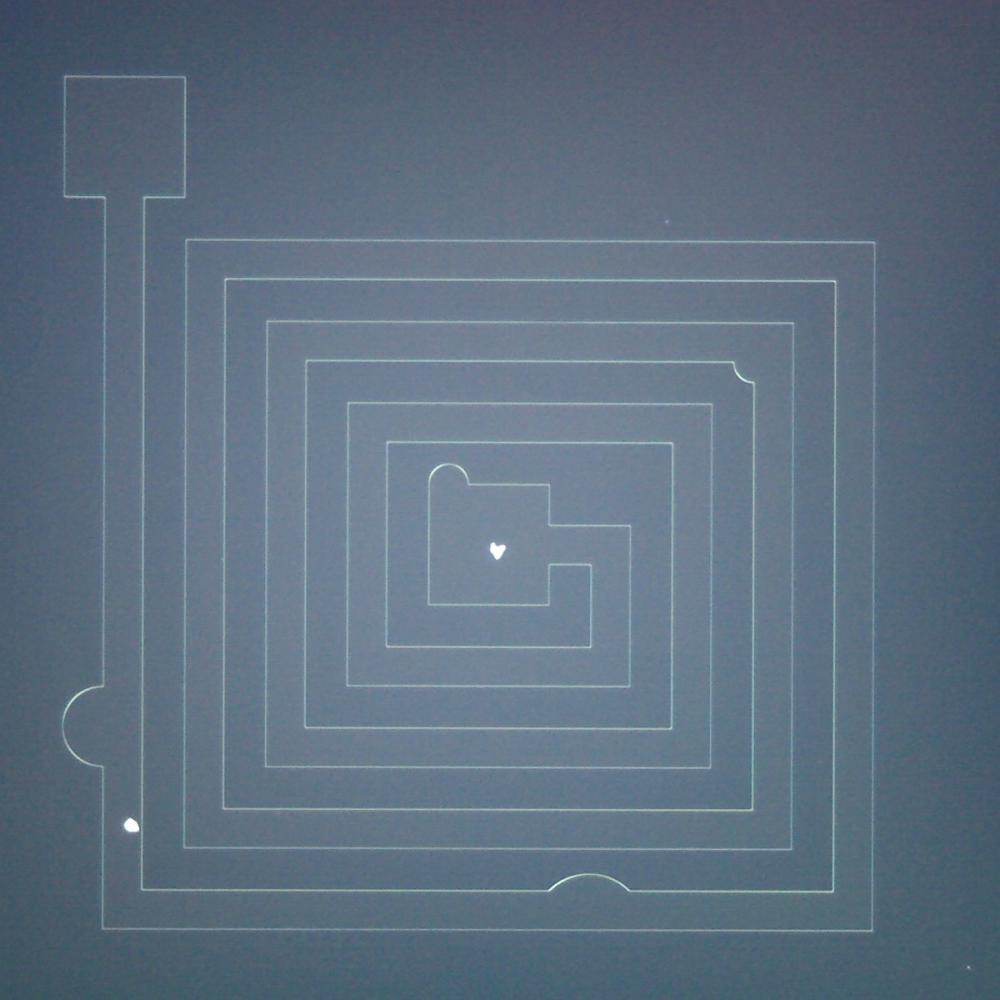curve circuit: (52, 670, 119, 780), (540, 866, 641, 910), (720, 346, 766, 396), (424, 454, 478, 494)
spot: (482, 532, 521, 572), (114, 805, 152, 844)
